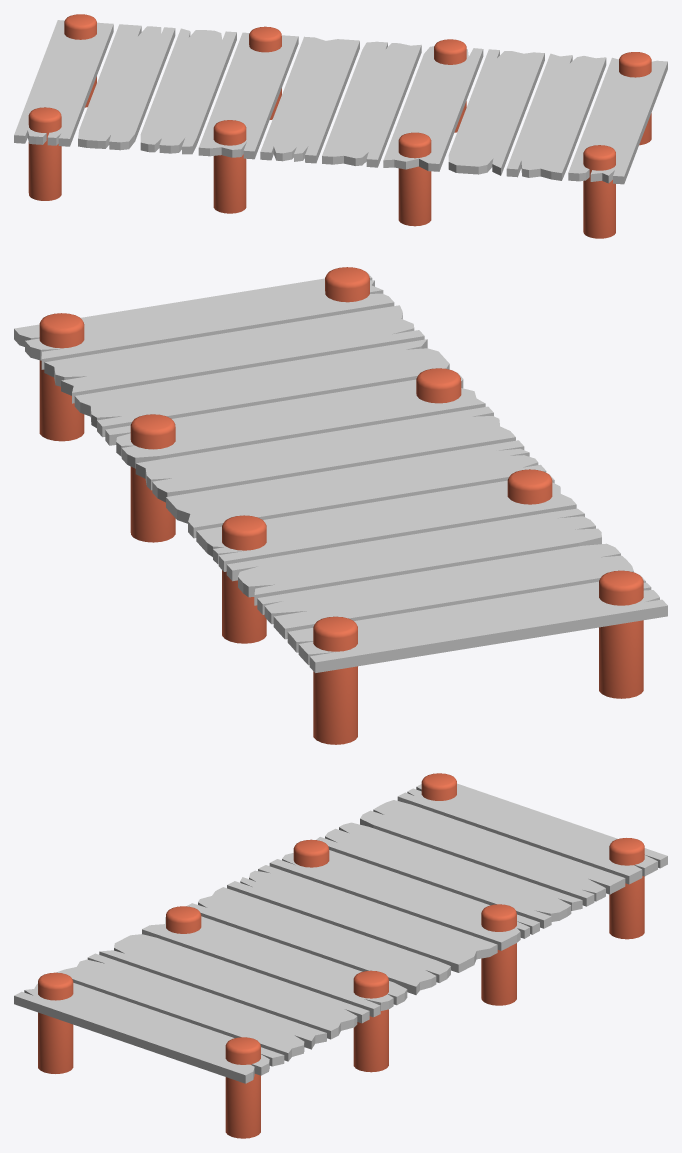
Rendered from Brug.fbx.
The picture shows the model from 3 angles, top to bottom: view 1: azimuth 30°, elevation 25°; view 2: azimuth 150°, elevation 25°; view 3: azimuth 270°, elevation 25°; orthographic projection. The views are drawn at different scales.
Visible parts, largest first — view 1: Cylinder.165; view 2: Cylinder.165; view 3: Cylinder.165.
Boxes of the visible parts, bbox=[...] form: Cylinder.165: bbox=[14, 14, 667, 238]; Cylinder.165: bbox=[14, 267, 667, 744]; Cylinder.165: bbox=[14, 773, 667, 1138].
Bounding box in the file's own units: 5.06 × 0.6926 × 4.67.
